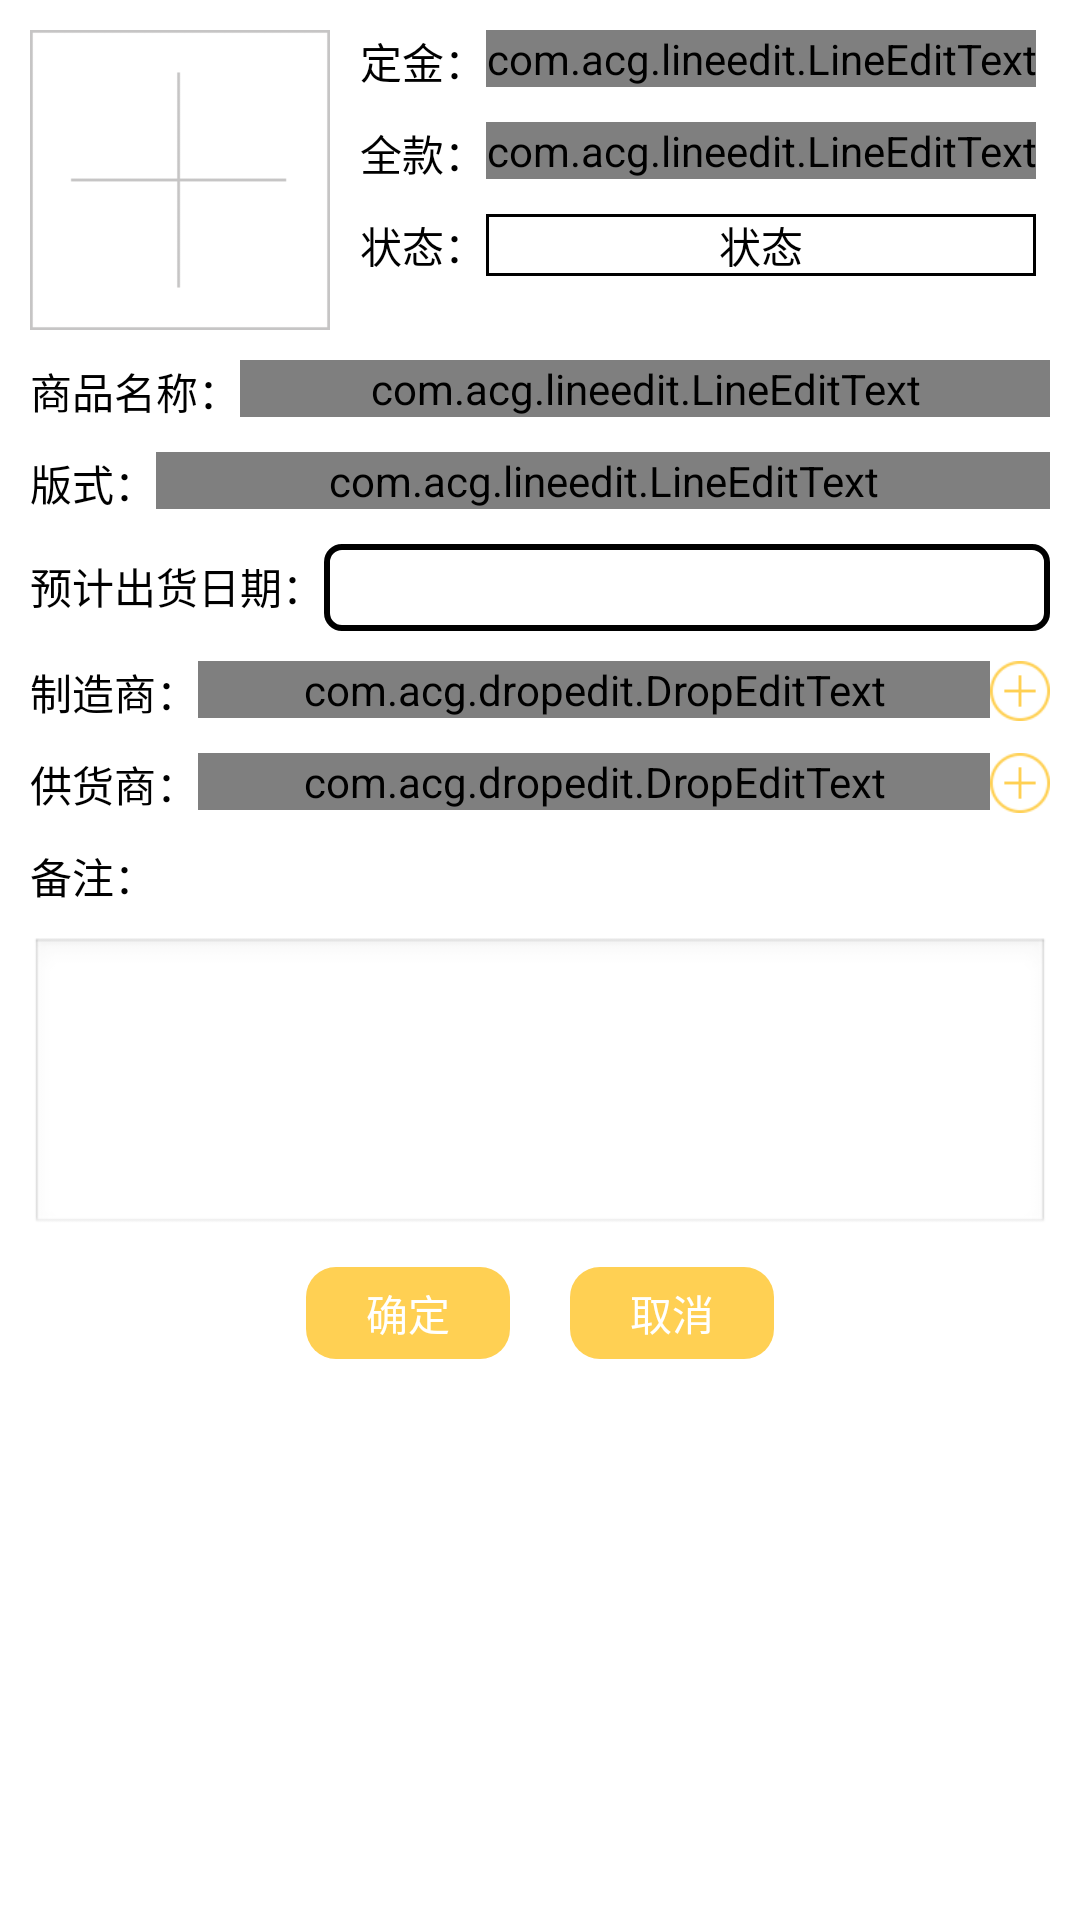

Named icons in this screenshot (1080px×1920px) and their centers, point (x, y):
addmake: point (1020, 691), point (1020, 783)
